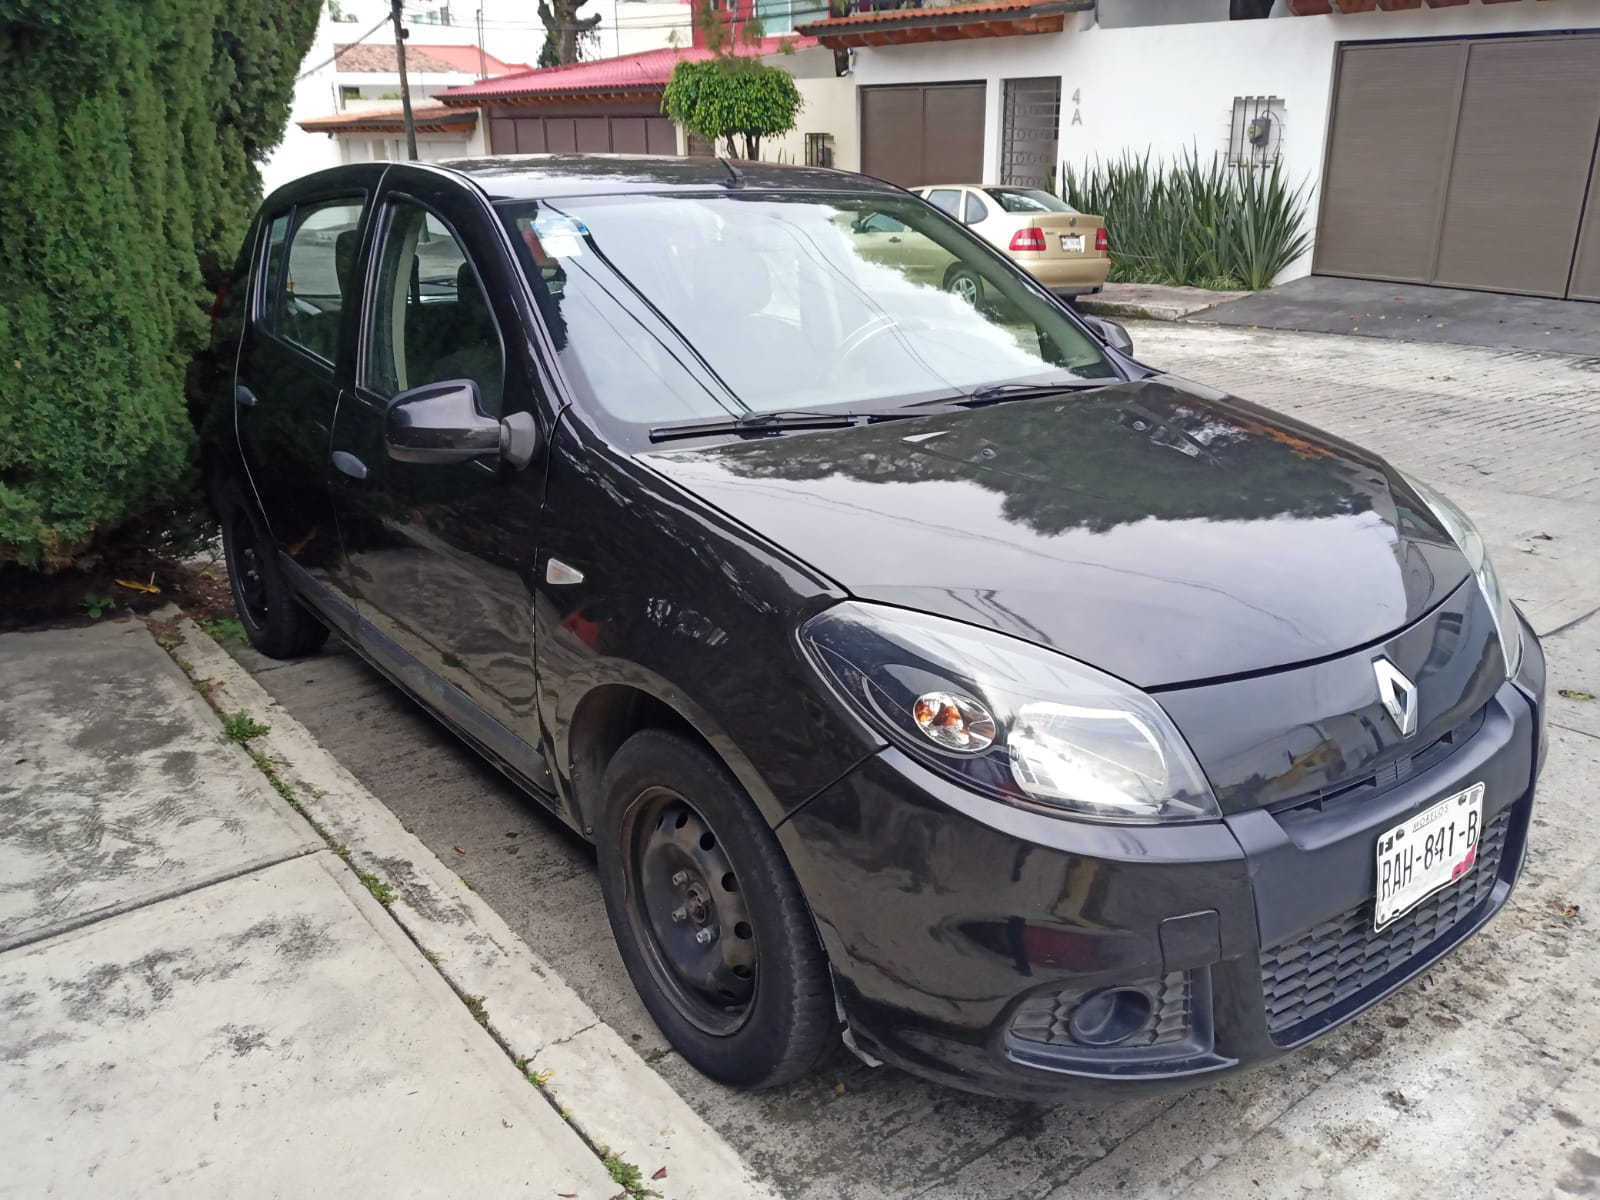Auto: (198, 151, 1556, 1094), (800, 183, 1109, 309)
